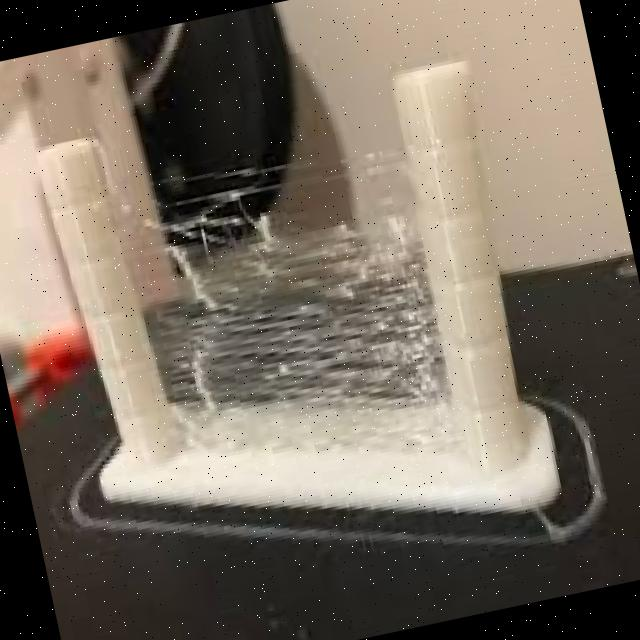stringing: (108, 148, 453, 442)
